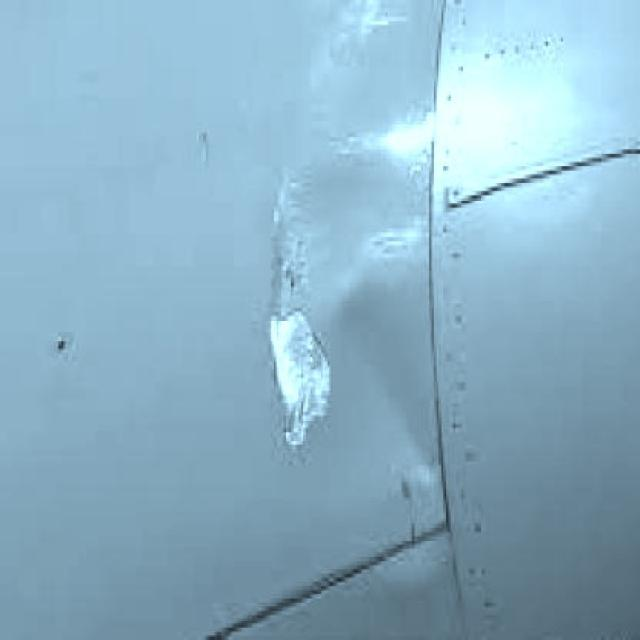dent: (271, 186, 337, 462)
